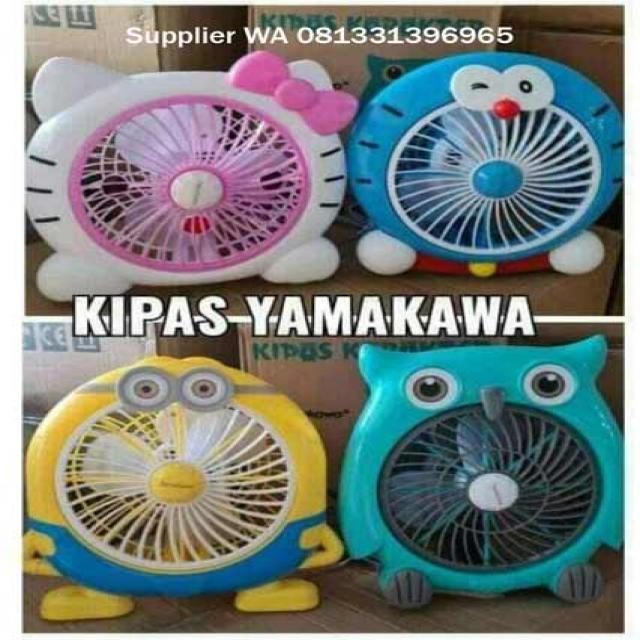fan: (41, 336, 621, 632)
